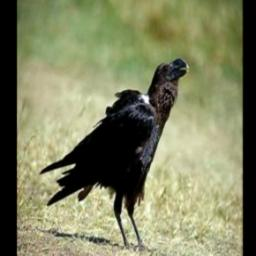Crow: (39, 56, 190, 249)
